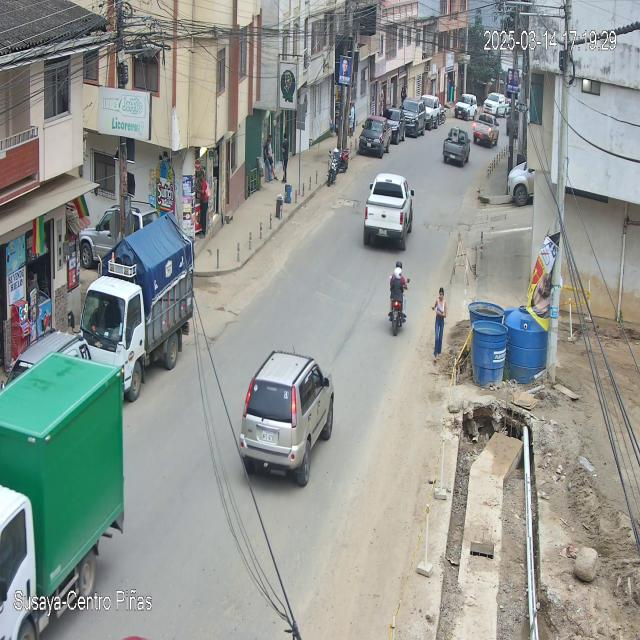CMT: (362, 171, 410, 250)
MOTORCYCLE: (388, 290, 410, 337)
SUV: (238, 351, 334, 487)
TRUCK: (0, 353, 125, 639), (76, 211, 194, 398)
